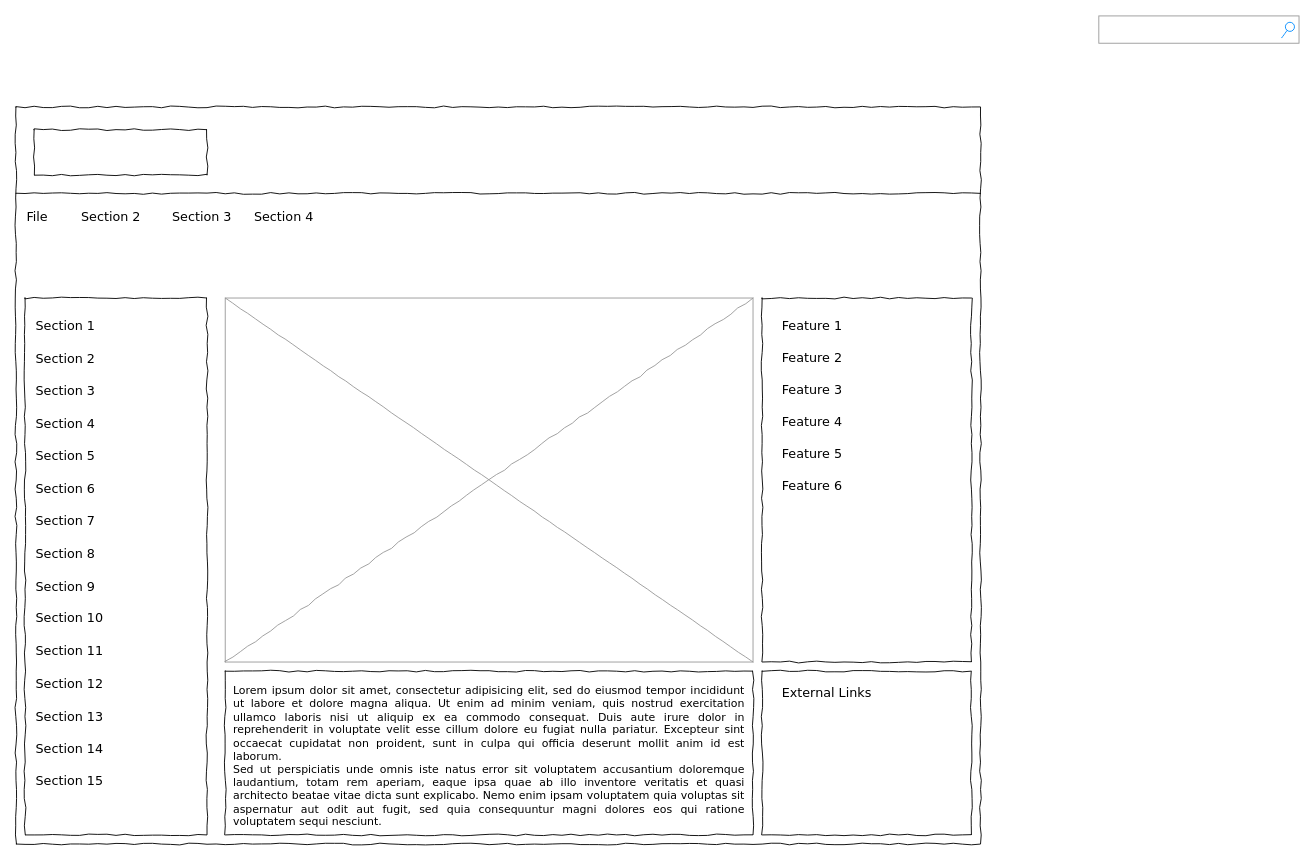
Some shapes in this 1315 by 860 pixel diagram are drawn without their labels. Each missing label, with the centre of its shape:
"LOGO" goes at [120,152].
"Search" goes at [1198,29].
